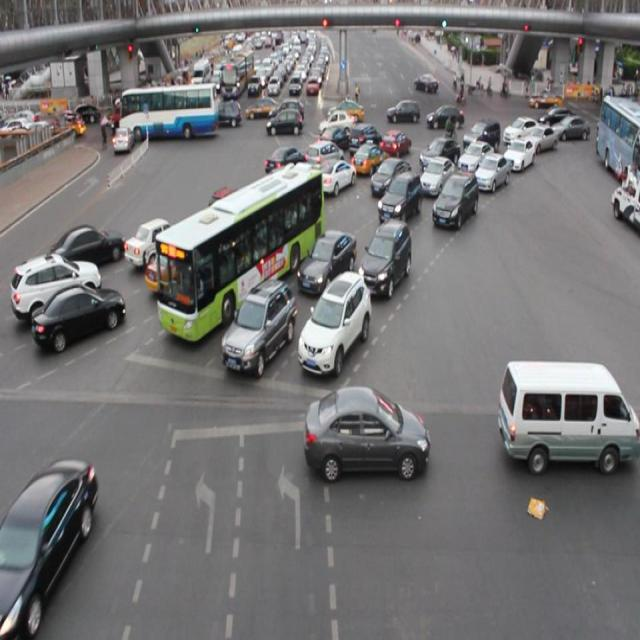car: (1, 456, 92, 630), (305, 386, 426, 476), (297, 270, 368, 372), (223, 280, 295, 372), (11, 251, 102, 320), (34, 283, 124, 349), (147, 240, 220, 296), (360, 220, 410, 293), (43, 224, 124, 268), (298, 230, 353, 294), (218, 212, 282, 264), (125, 216, 188, 264), (431, 169, 476, 230), (207, 186, 266, 232), (273, 186, 327, 230), (262, 165, 314, 207), (378, 171, 420, 221), (369, 156, 410, 198), (316, 158, 355, 198), (473, 152, 509, 194), (418, 137, 458, 174), (348, 140, 388, 176), (462, 119, 499, 157), (265, 144, 306, 178), (456, 140, 493, 176), (419, 157, 453, 193), (502, 137, 533, 174), (503, 115, 543, 141), (348, 125, 379, 155), (319, 126, 349, 157), (378, 127, 411, 155), (519, 126, 554, 150)
truck: (500, 358, 640, 468), (305, 139, 342, 175)
van: (155, 168, 322, 340)
